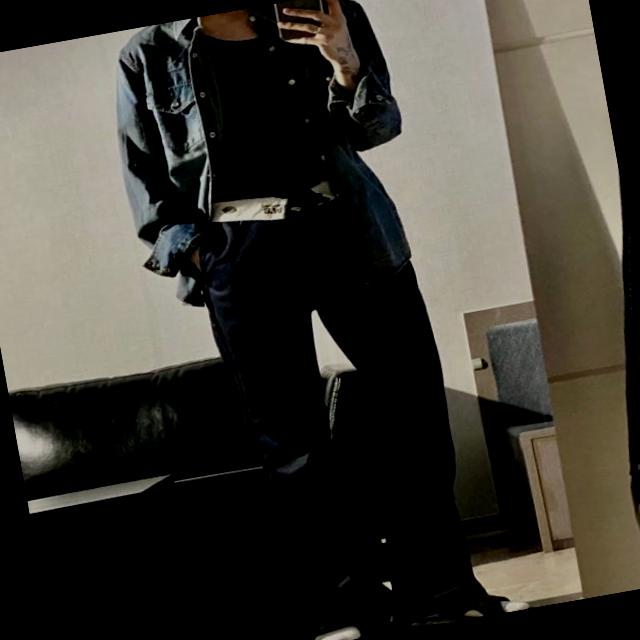denimpants: (192, 183, 485, 640)
shirt: (101, 0, 430, 322)
